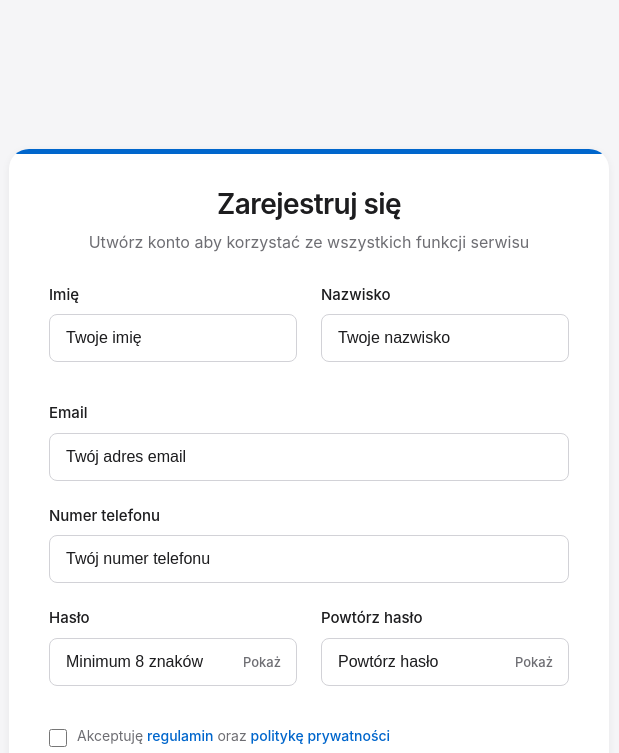
Test: <RegisterPage /> › displays API error on failed registration
Type "A" into the field labelled "Imię" at (173, 338), box [49,314,297,362]
Type "B" into the field labelled "Nazwisko" at (445, 338), box [321,314,569,362]
Type "a@b.com" into the field labelled "Email" at (309, 457), box [49,433,569,481]
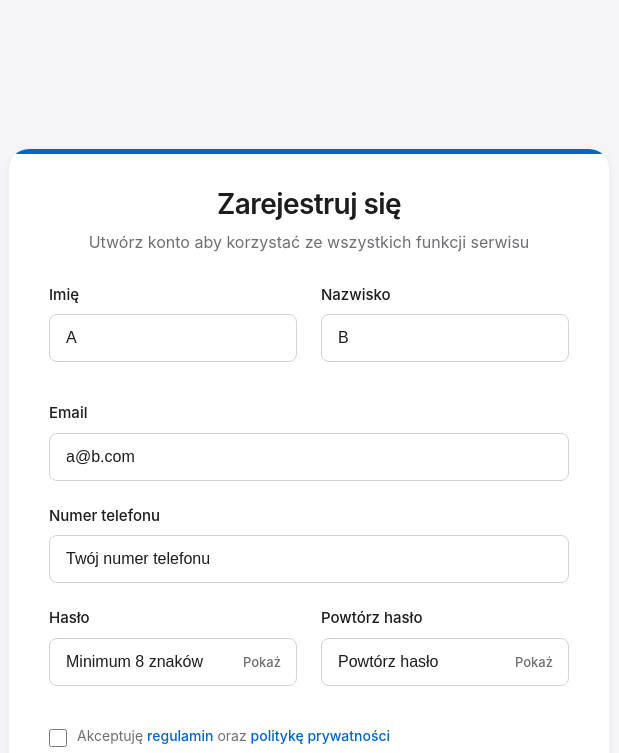
Type "123456789" into the field labelled "Numer telefonu" at (309, 559), box [49,535,569,583]
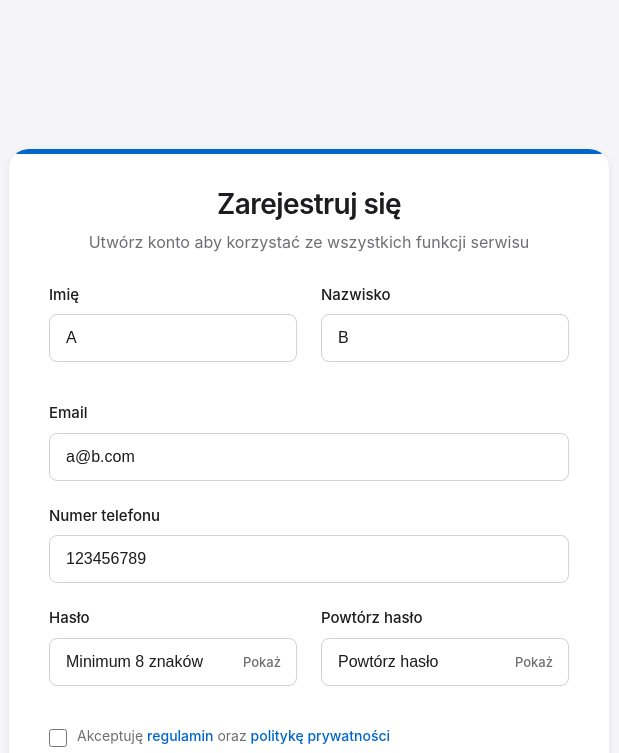
Type "pass1234" into the password field labelled "Hasło" at (173, 662), box [49,638,297,686]
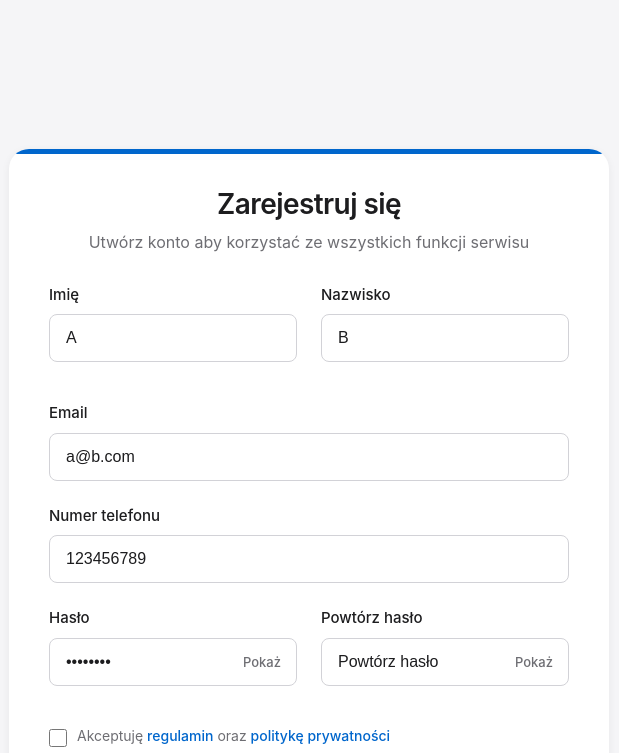
Type "pass1234" into the password field labelled "Powtórz hasło" at (445, 662), box [321,638,569,686]
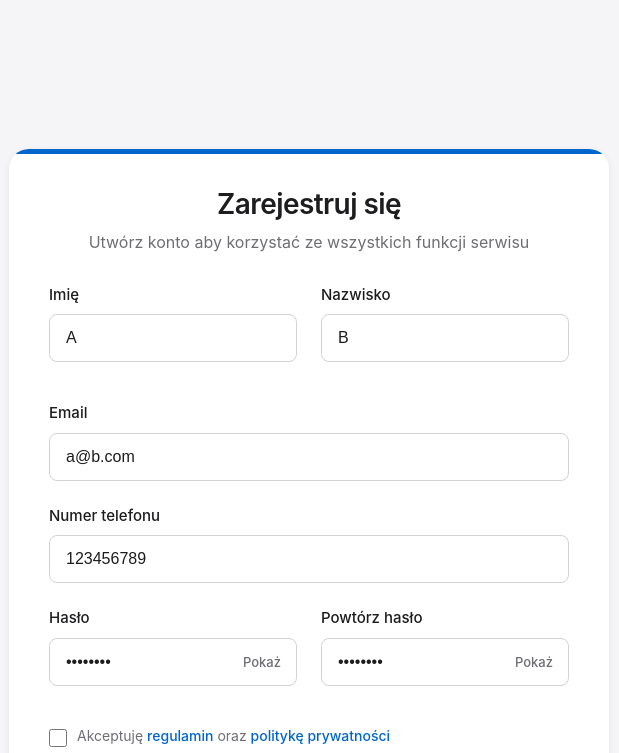
Click the checkbox labelled "Akceptuję regulamin oraz politykę prywatności" at (58, 738), box [49,729,67,747]
(page scrolled)
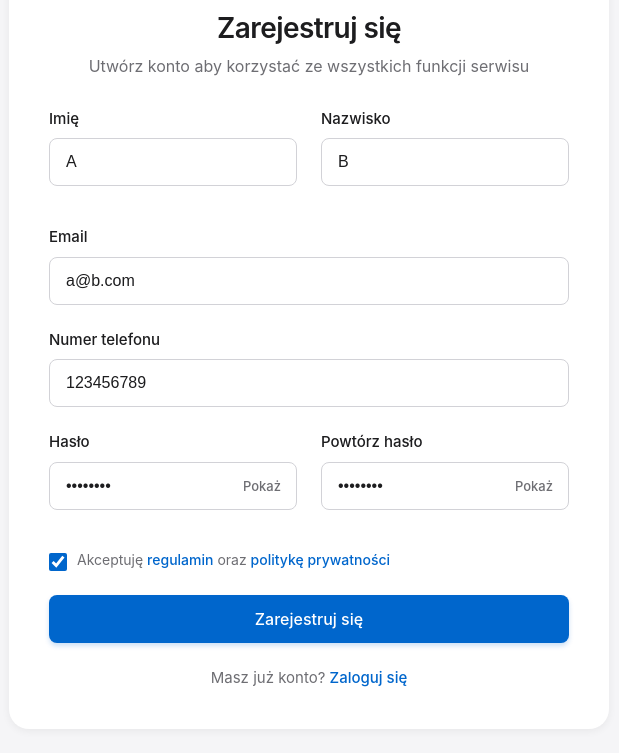
Click the button "Zarejestruj się" at (309, 619), box [49,595,569,643]
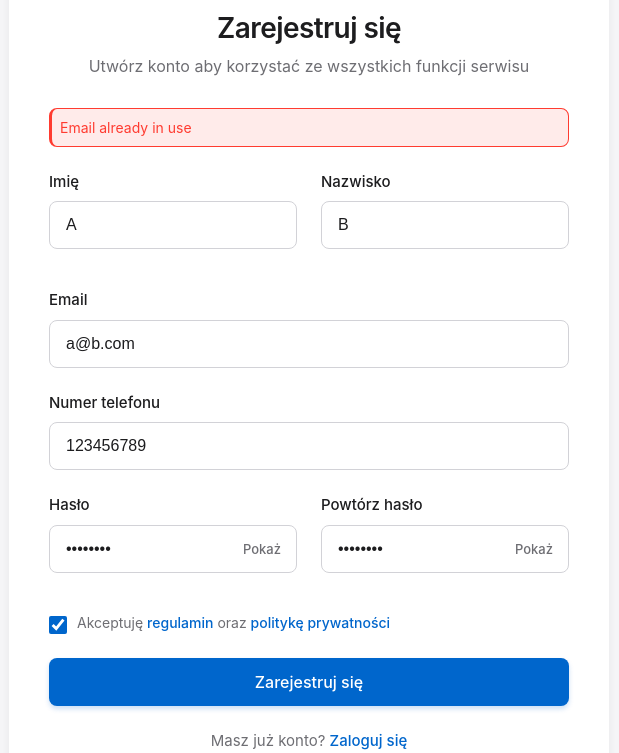
Expected: the text "Email already in use" is shown, [49,108,569,147]
